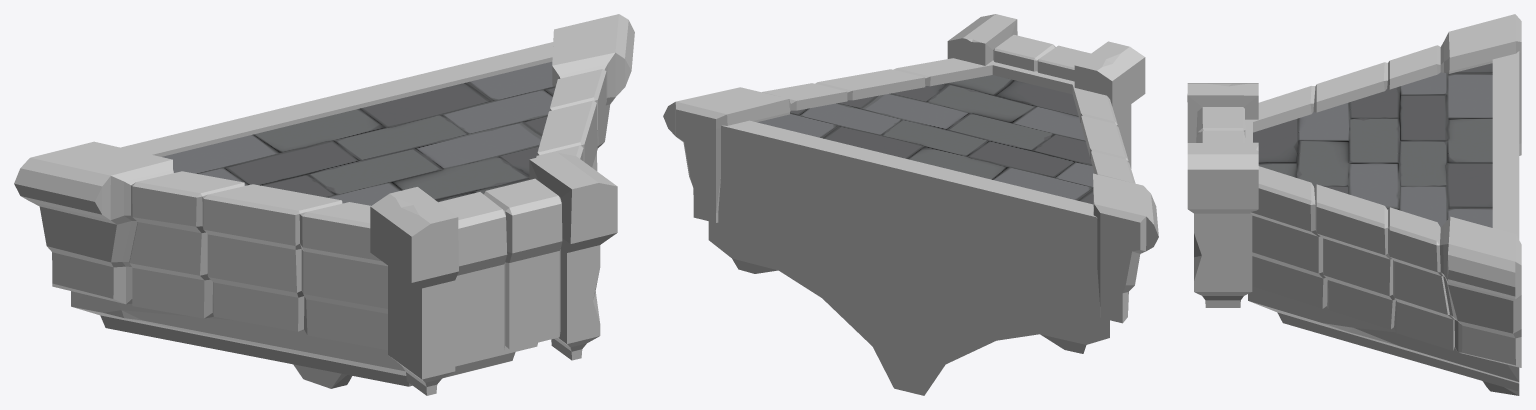
Rendered from SM_Prop_Gargoyle_Base_01.fbx.
The picture shows the model from 3 angles, left to right: view 1: azimuth 30°, elevation 25°; view 2: azimuth 150°, elevation 25°; view 3: azimuth 270°, elevation 25°; orthographic projection. The views are drawn at different scales.
Visible parts, largest first — view 1: SM_Prop_Gargoyle_Base_01; view 2: SM_Prop_Gargoyle_Base_01; view 3: SM_Prop_Gargoyle_Base_01.
Part boxes in pixels (left/top/right/bottom): SM_Prop_Gargoyle_Base_01: left=14, top=14, right=634, bottom=395; SM_Prop_Gargoyle_Base_01: left=663, top=14, right=1158, bottom=395; SM_Prop_Gargoyle_Base_01: left=1187, top=14, right=1521, bottom=395.
Size of the model in its own units: 262 by 126 by 142.
